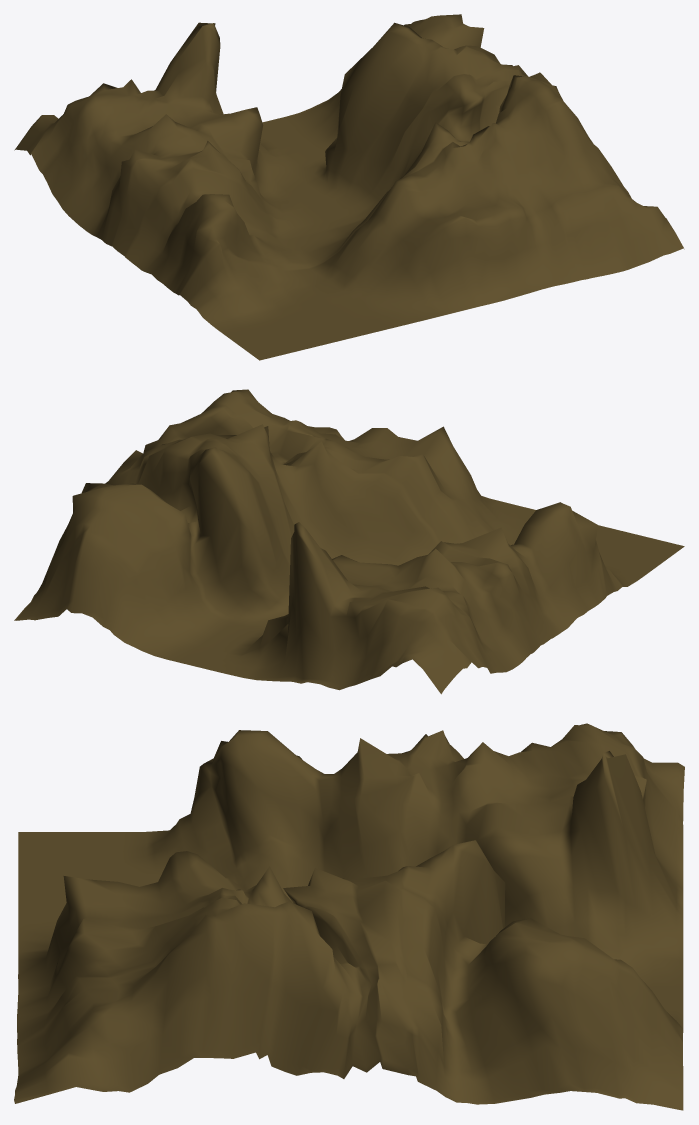
The model's file is Canyon.fbx.
3 views of the same model, one above another, from view 1: azimuth 30°, elevation 25°; view 2: azimuth 150°, elevation 25°; view 3: azimuth 270°, elevation 25° (orthographic). The views are drawn at different scales.
Parts seen in each view (by area): view 1: LowPolyCanyon; view 2: LowPolyCanyon; view 3: LowPolyCanyon.
Boxes of the visible parts, bbox=[...] form: LowPolyCanyon: bbox=[14, 14, 684, 360]; LowPolyCanyon: bbox=[14, 389, 684, 694]; LowPolyCanyon: bbox=[14, 723, 684, 1110].
Bounding box in the file's own units: 35.89 × 10.92 × 34.32.
